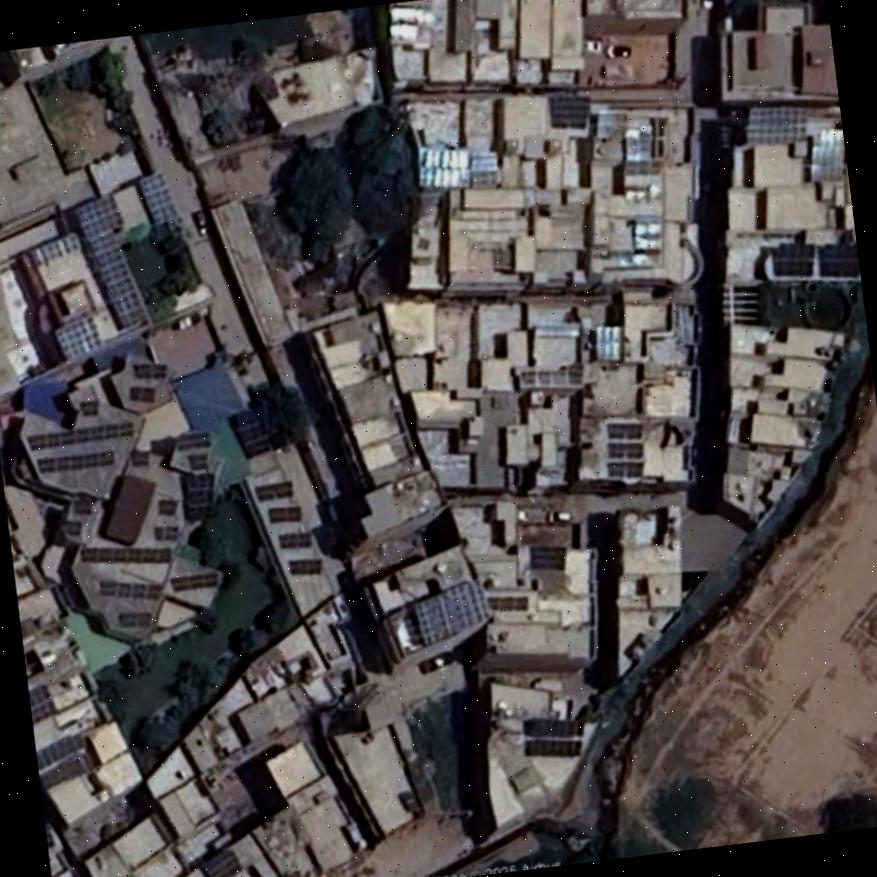Solarpanel: (77, 193, 155, 324), (413, 578, 485, 643), (27, 422, 133, 449), (747, 105, 807, 144), (231, 408, 275, 458), (53, 310, 100, 356), (139, 173, 178, 222), (30, 231, 83, 264), (809, 128, 841, 180), (38, 450, 113, 471), (79, 546, 170, 562), (817, 242, 858, 276), (183, 474, 212, 522), (774, 244, 815, 276), (98, 581, 161, 597), (174, 573, 219, 589), (607, 422, 642, 440), (608, 441, 643, 458), (607, 462, 643, 477), (287, 557, 323, 572), (134, 364, 167, 380), (256, 482, 290, 497), (177, 432, 207, 449), (279, 531, 310, 546), (270, 506, 300, 521), (118, 613, 151, 626), (131, 385, 154, 402), (156, 497, 177, 512)
